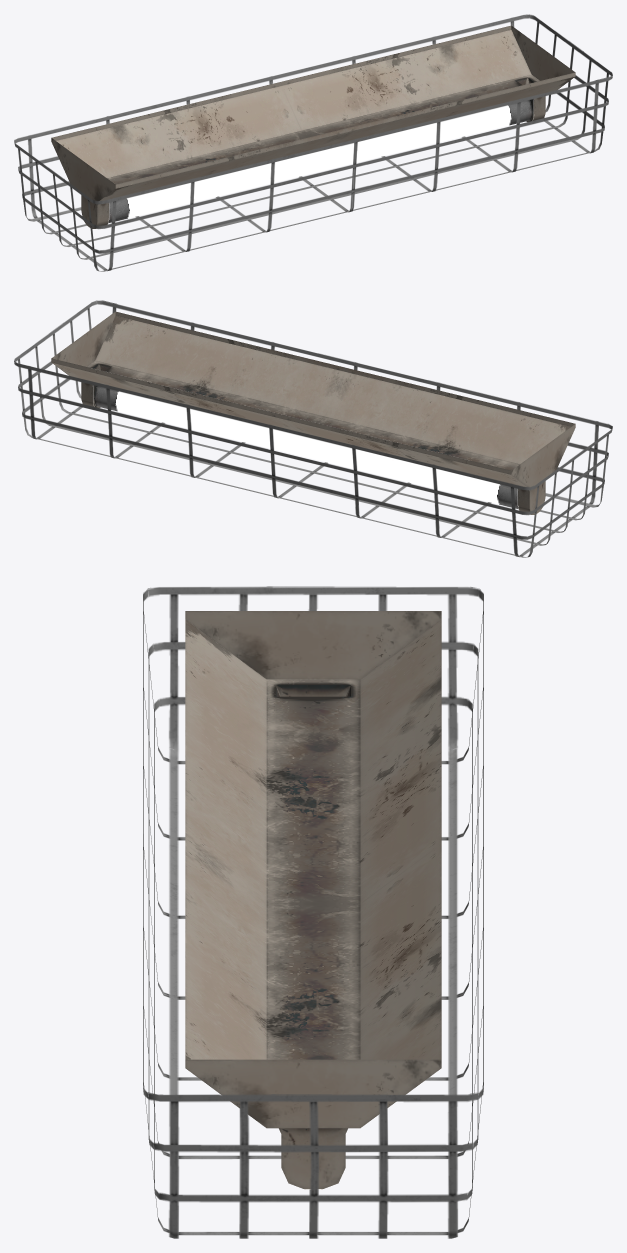
Rendered from game_ready_light.glb.
The picture shows the model from 3 angles, top to bottom: view 1: azimuth 30°, elevation 25°; view 2: azimuth 150°, elevation 25°; view 3: azimuth 270°, elevation 25°; orthographic projection. The views are drawn at different scales.
Visible parts, largest first — view 1: SM_Light; view 2: SM_Light; view 3: SM_Light.
Boxes of the visible parts, box(x1,y1,x2,y2) form: SM_Light: box(14, 14, 612, 271); SM_Light: box(14, 300, 612, 557); SM_Light: box(143, 586, 483, 1238).
Size of the model in its own units: 1.06 by 0.158 by 0.3002.
2 materials, 2 textured.
